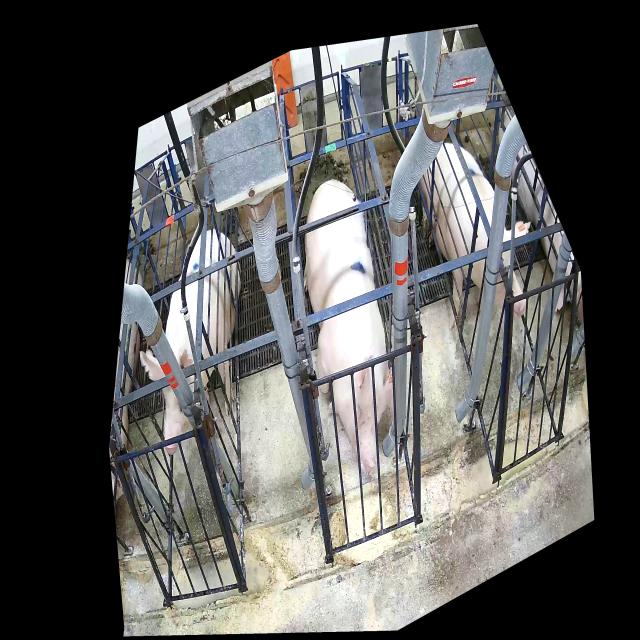pig: (304, 180, 393, 473), (140, 228, 241, 452), (420, 142, 531, 330)
